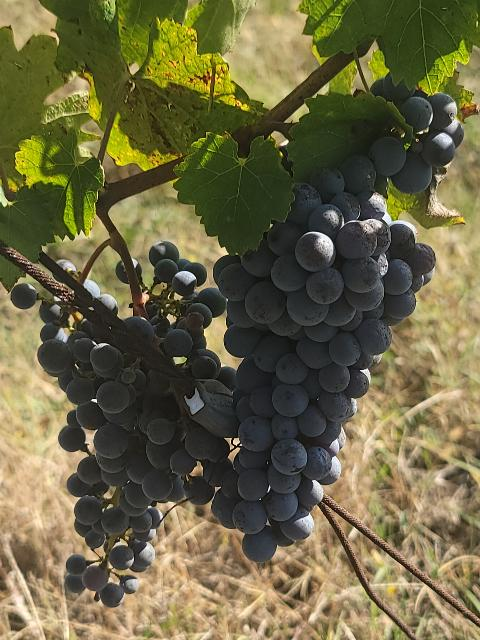grapes: (205, 164, 435, 561), (38, 295, 230, 606), (122, 242, 226, 380), (370, 74, 461, 195)
